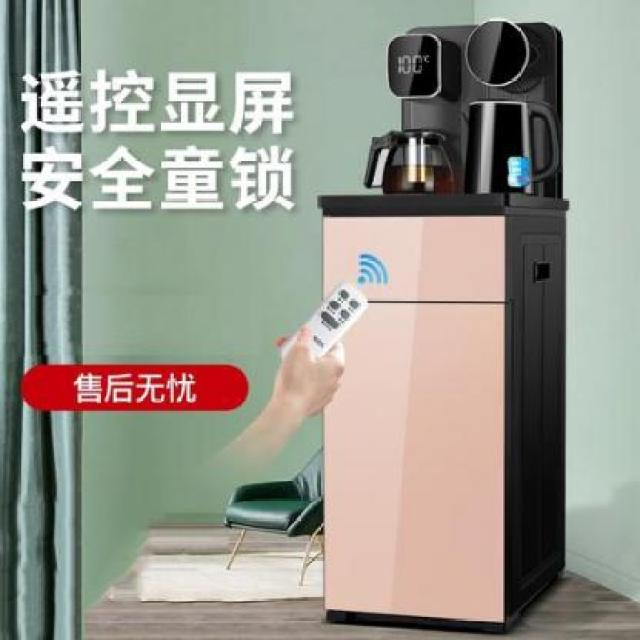cooler: (318, 20, 570, 636)
